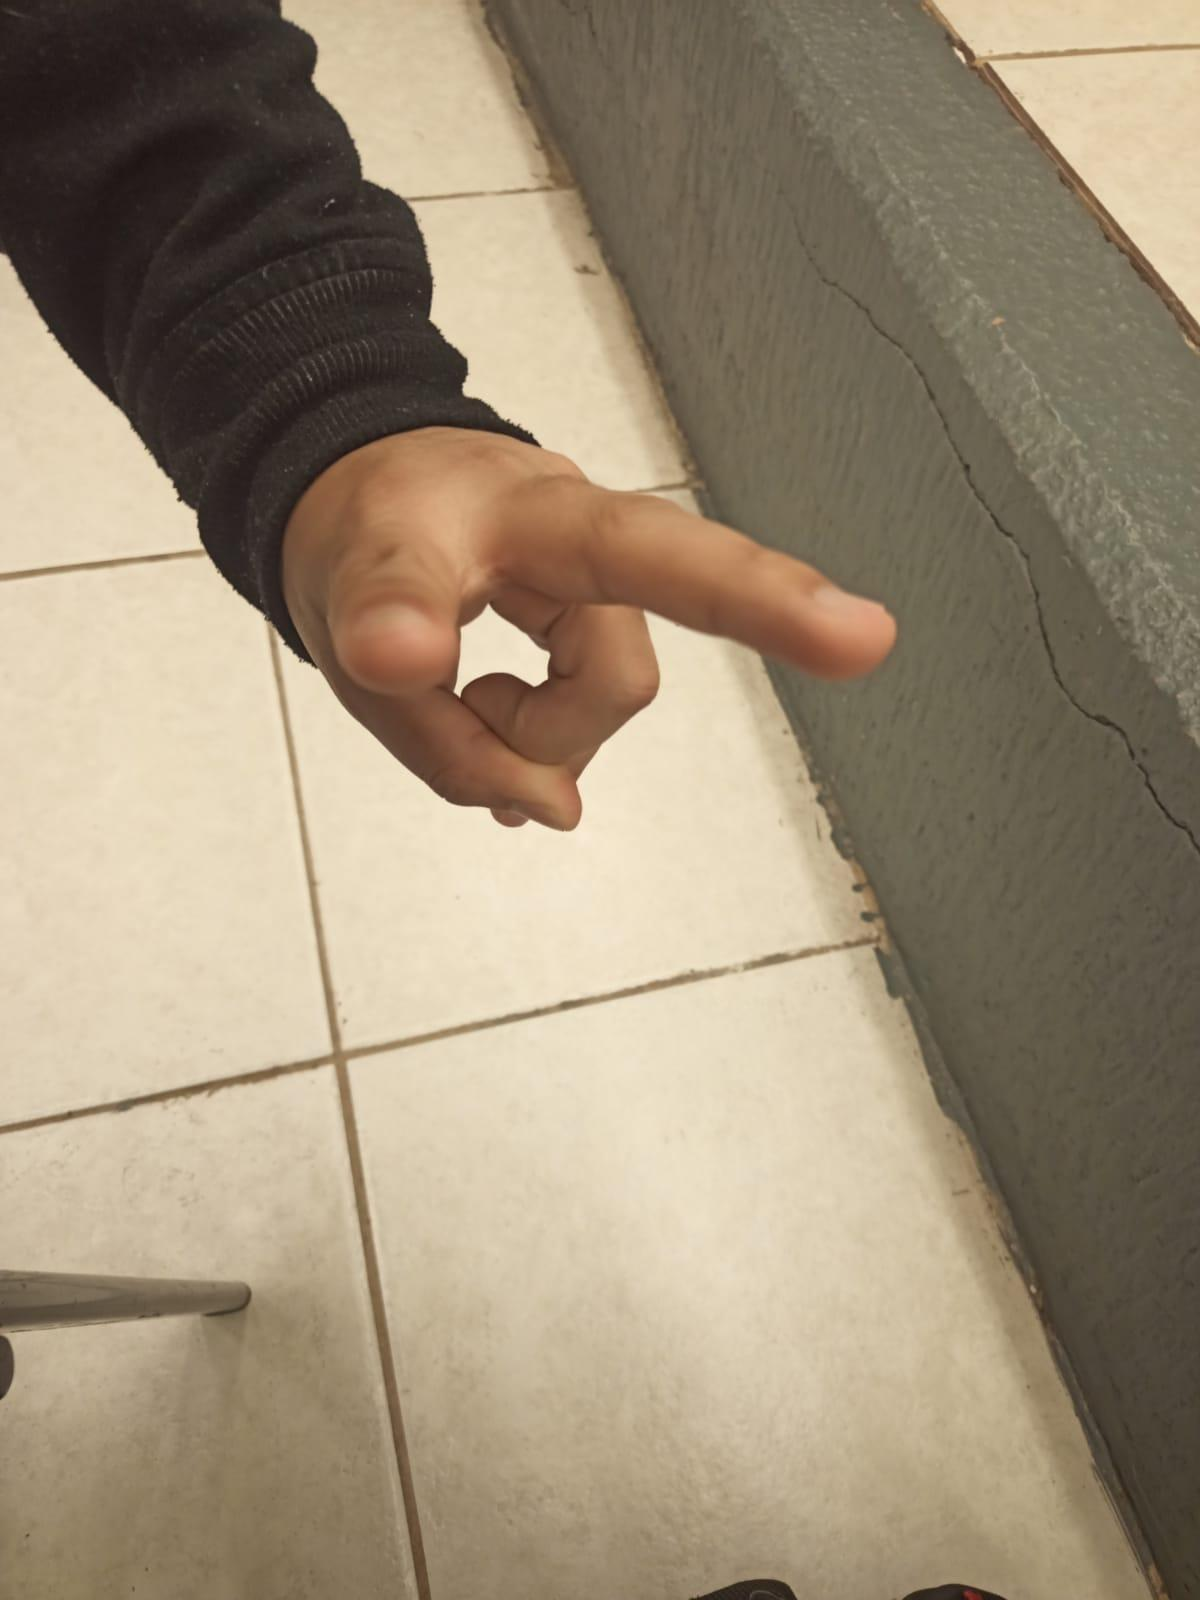Scissor: (198, 382, 940, 842)
